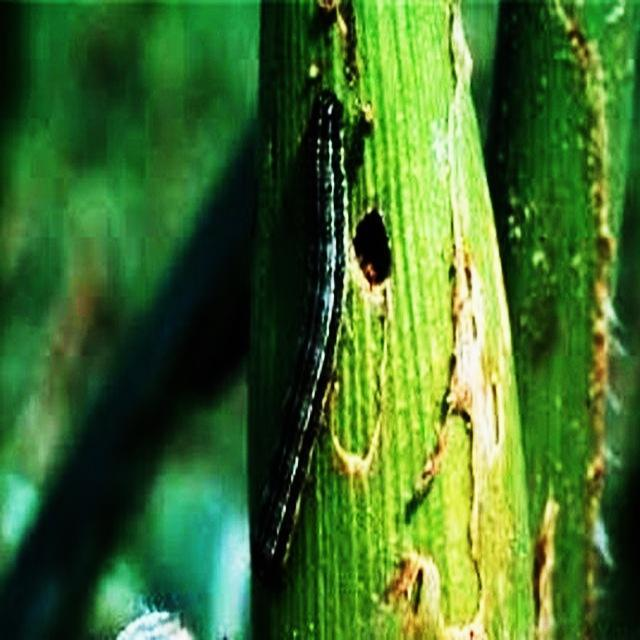gusano_cogollero: (246, 80, 350, 574)
